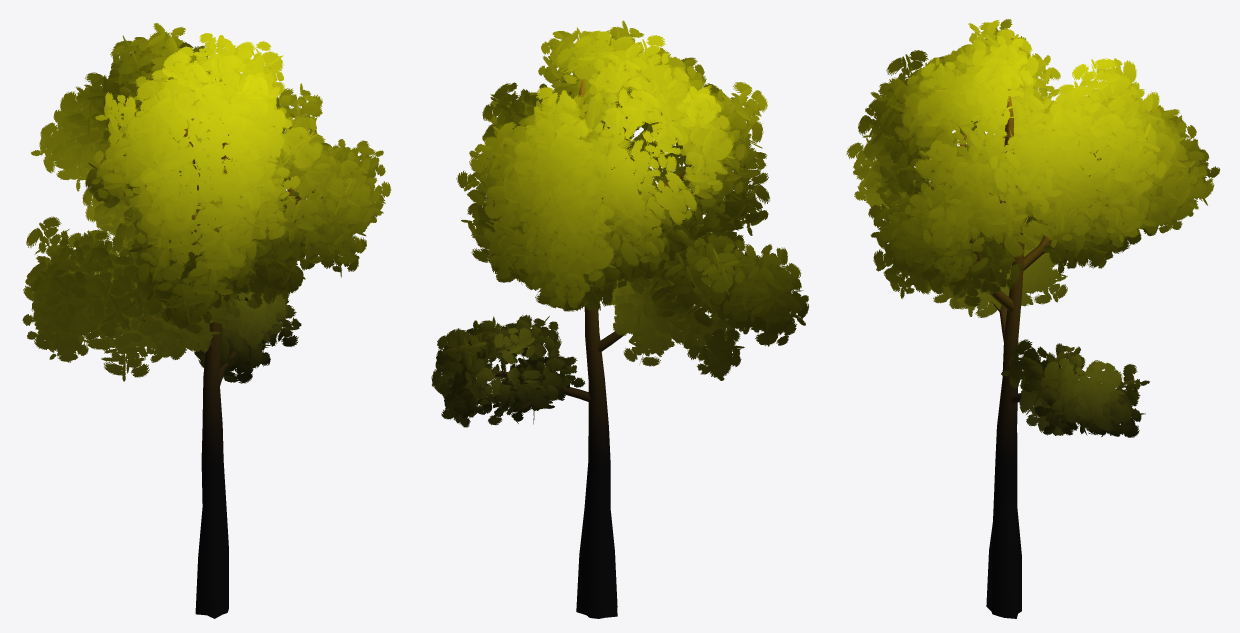
Rendered from SM_Tree_Small_02.fbx.
3 views of the same model, side by side, from view 1: azimuth 30°, elevation 25°; view 2: azimuth 150°, elevation 25°; view 3: azimuth 270°, elevation 25° (orthographic).
Visible parts, largest first — view 1: SM_Tree_Small_02_LOD0; view 2: SM_Tree_Small_02_LOD0; view 3: SM_Tree_Small_02_LOD0.
Boxes of the visible parts, bbox=[...] form: SM_Tree_Small_02_LOD0: bbox=[22, 23, 391, 618]; SM_Tree_Small_02_LOD0: bbox=[431, 20, 809, 618]; SM_Tree_Small_02_LOD0: bbox=[846, 19, 1220, 618].
Size of the model in its own units: 628 by 1019 by 615.
